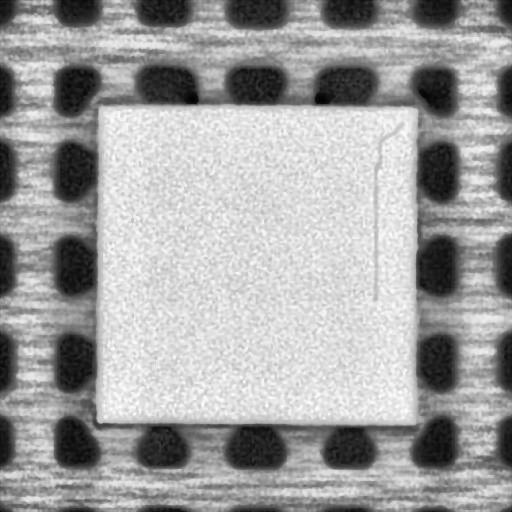DIE_CRACK: (367, 119, 406, 301)
